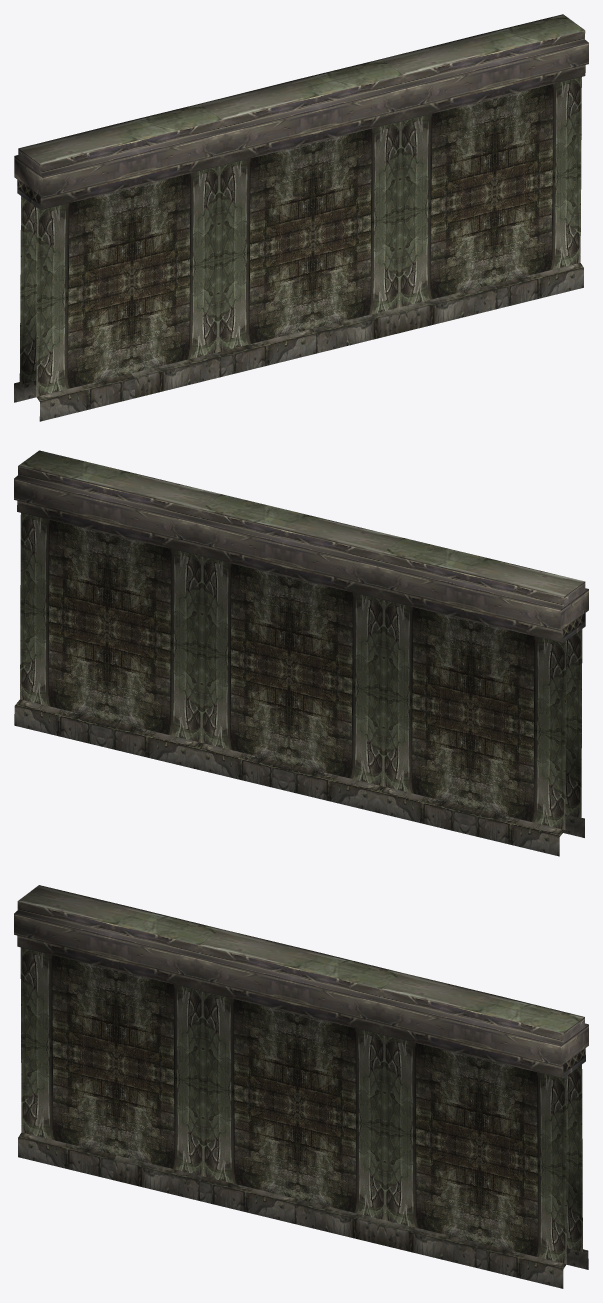
Rendered from S_Build_Muxue052.FBX.
3 views of the same model, one above another, from view 1: azimuth 30°, elevation 25°; view 2: azimuth 150°, elevation 25°; view 3: azimuth 330°, elevation 25° (orthographic).
Visible parts, largest first — view 1: S_Build_Muxue052; view 2: S_Build_Muxue052; view 3: S_Build_Muxue052.
Part boxes in pixels (x1,y1,x2,y2): S_Build_Muxue052: (14, 14, 588, 421); S_Build_Muxue052: (14, 450, 588, 856); S_Build_Muxue052: (14, 885, 588, 1288).
Size of the model in its own units: 1485 by 147 by 669.
